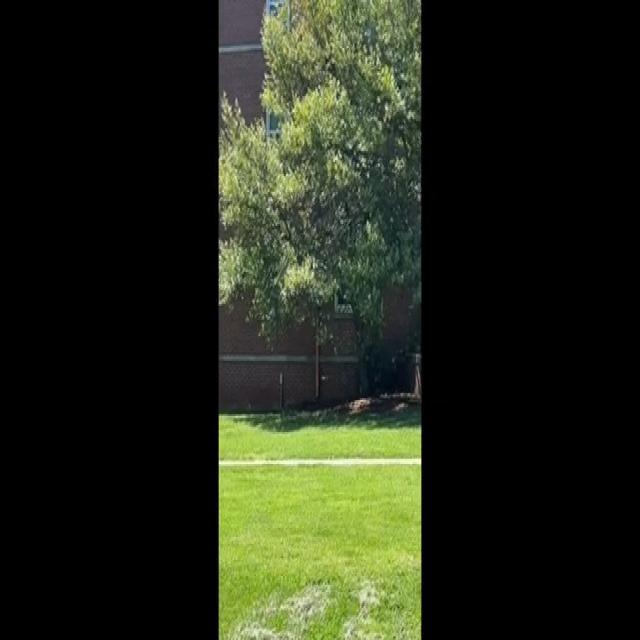drone: (317, 368, 334, 388)
